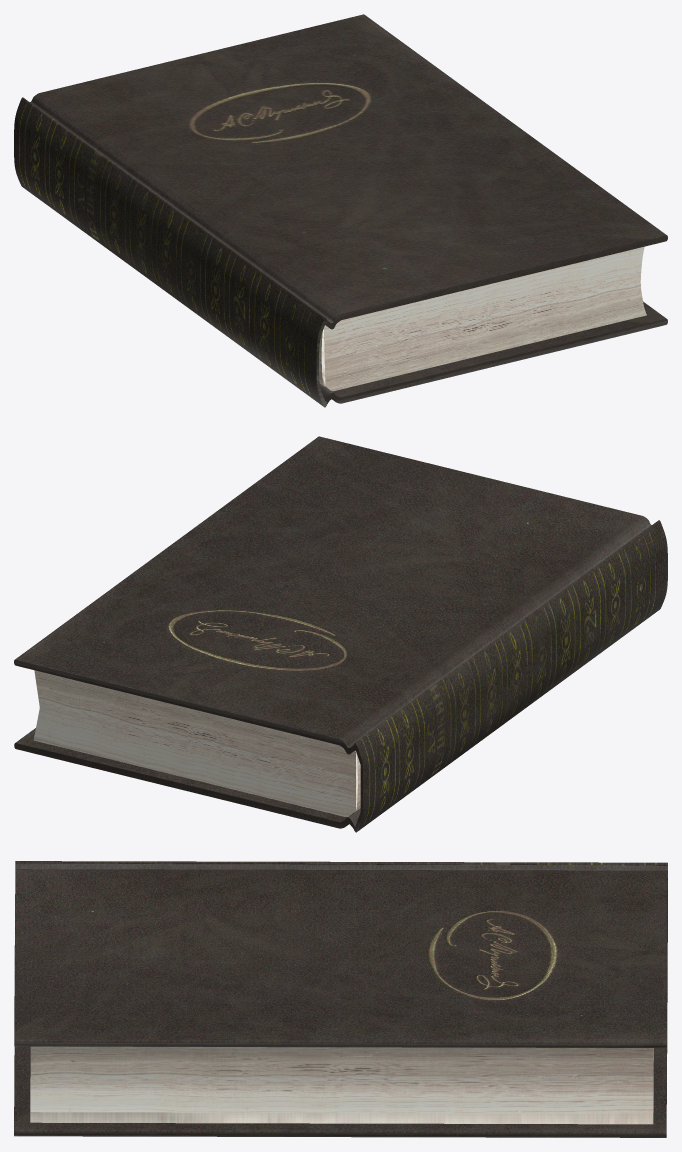
The model's file is antiqueBook.fbx.
The picture shows the model from 3 angles, top to bottom: view 1: azimuth 30°, elevation 25°; view 2: azimuth 150°, elevation 25°; view 3: azimuth 270°, elevation 25°; orthographic projection. The views are drawn at different scales.
Visible parts, largest first — view 1: Book_Book_book_01; view 2: Book_Book_book_01; view 3: Book_Book_book_01.
Boxes of the visible parts, box(x1,y1,x2,y2) form: Book_Book_book_01: box(14, 14, 667, 407); Book_Book_book_01: box(14, 436, 667, 832); Book_Book_book_01: box(14, 861, 667, 1137).
Size of the model in its own units: 0.7571 by 0.1874 by 1.13.
Materials: 3 (3 with a texture image).
